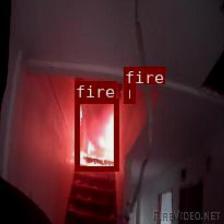fire: (74, 97, 118, 170), (123, 83, 134, 102)
